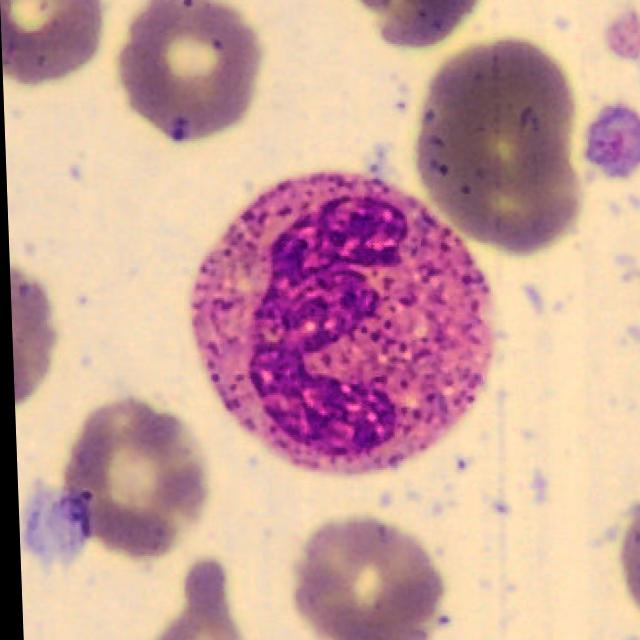Neutrofilo segmentado: (187, 170, 490, 475)
